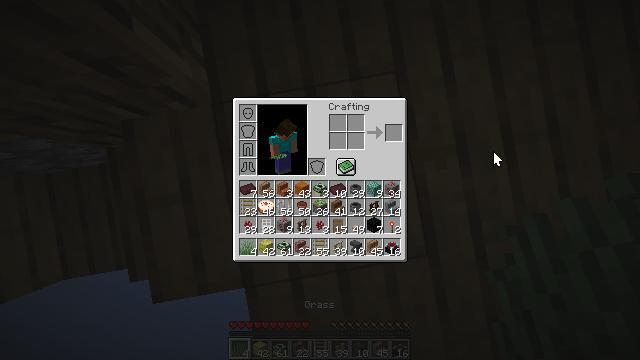cursor: (493, 151, 503, 167)
